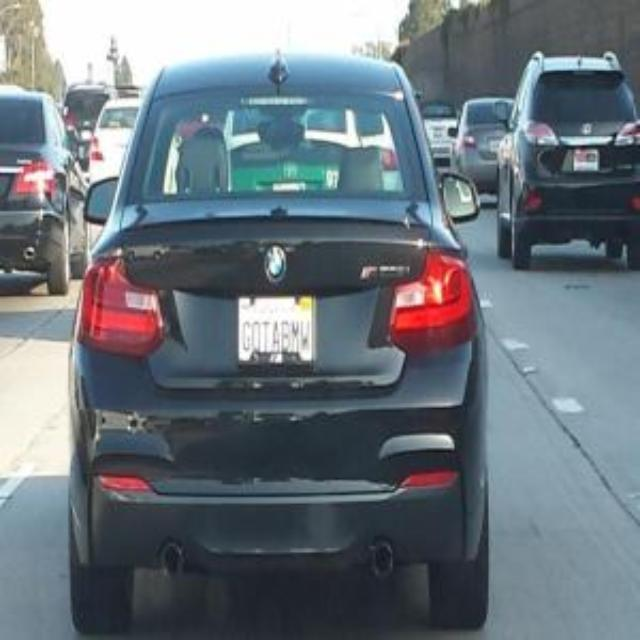License Plate: (238, 295, 316, 364)
